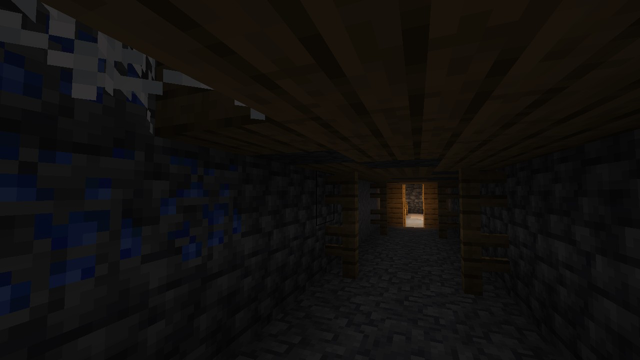lapis: (1, 1, 245, 308)
